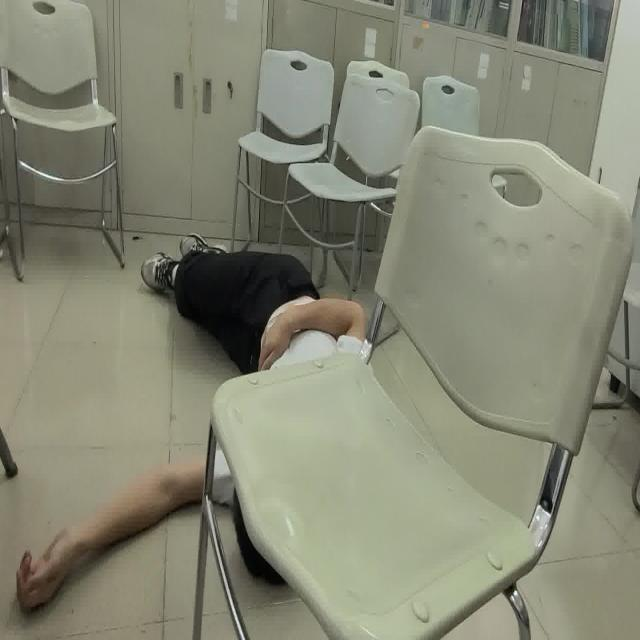Fall-Detected: (11, 224, 366, 606)
